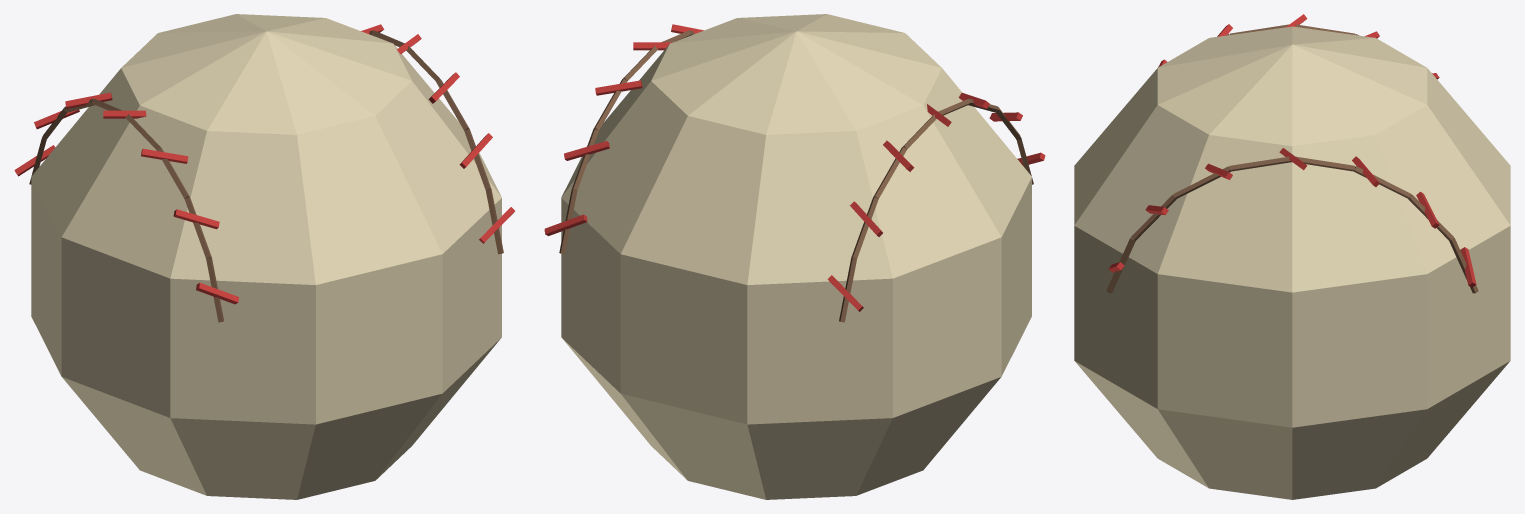
The model's file is b17_stitched_baseball.glb.
3 renders of one model, left to right at view 1: azimuth 30°, elevation 25°; view 2: azimuth 150°, elevation 25°; view 3: azimuth 270°, elevation 25°, orthographic. The views are drawn at different scales.
Visible parts, largest first — view 1: b17_stitched_baseball; view 2: b17_stitched_baseball; view 3: b17_stitched_baseball.
Boxes of the visible parts, <box> form: b17_stitched_baseball: <box>14,14,514,499</box>; b17_stitched_baseball: <box>544,14,1045,499</box>; b17_stitched_baseball: <box>1074,14,1510,499</box>.
Size of the model in its own units: 0.0704 by 0.074 by 0.0669.
